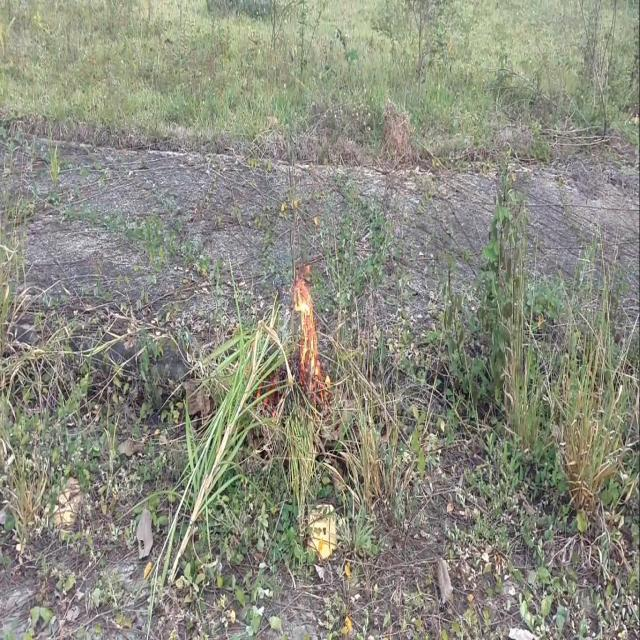Fire: (289, 262, 329, 400)
